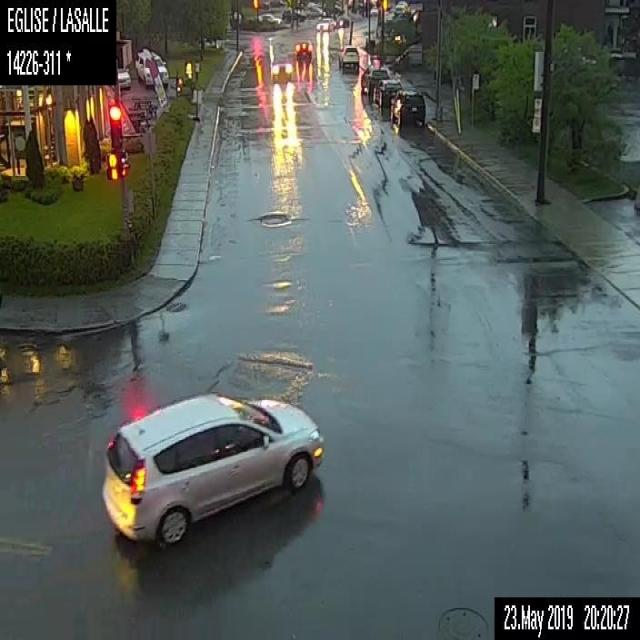vehicle: (100, 391, 324, 549), (388, 87, 425, 128), (135, 48, 168, 86), (358, 62, 391, 98), (371, 76, 401, 109), (338, 43, 359, 69), (271, 56, 292, 79), (294, 39, 312, 60), (256, 12, 281, 26), (115, 70, 131, 89), (315, 14, 334, 30), (332, 15, 350, 29), (392, 0, 408, 13)
